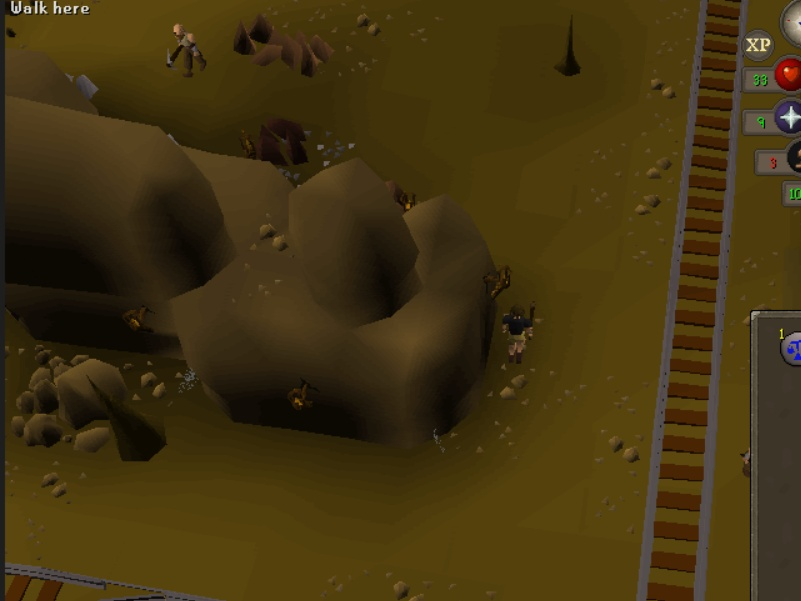copper: (280, 23, 337, 80), (228, 11, 285, 68)
iron: (253, 111, 312, 167)
